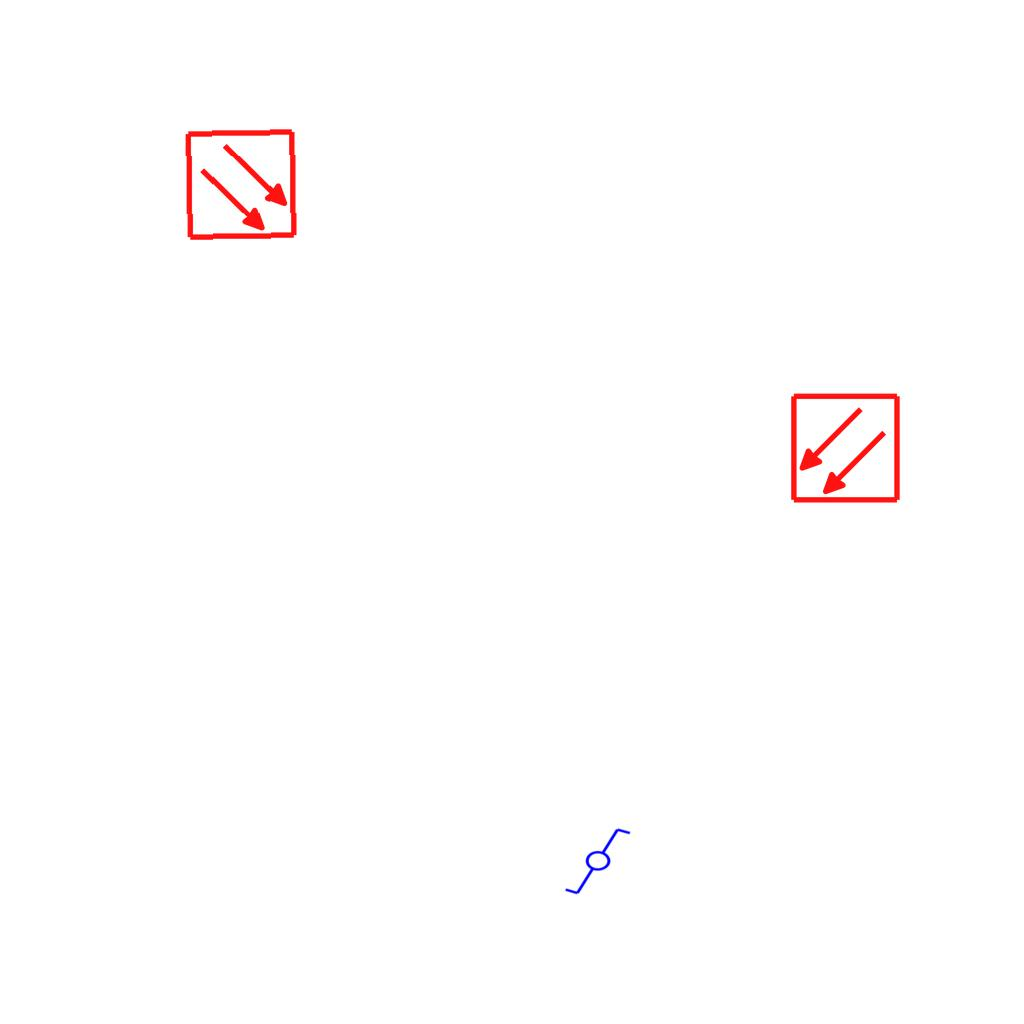RMO_Rauchmelder_optischer: (184, 127, 299, 242), (789, 392, 902, 505)
Wechselschalter: (563, 826, 641, 898)
